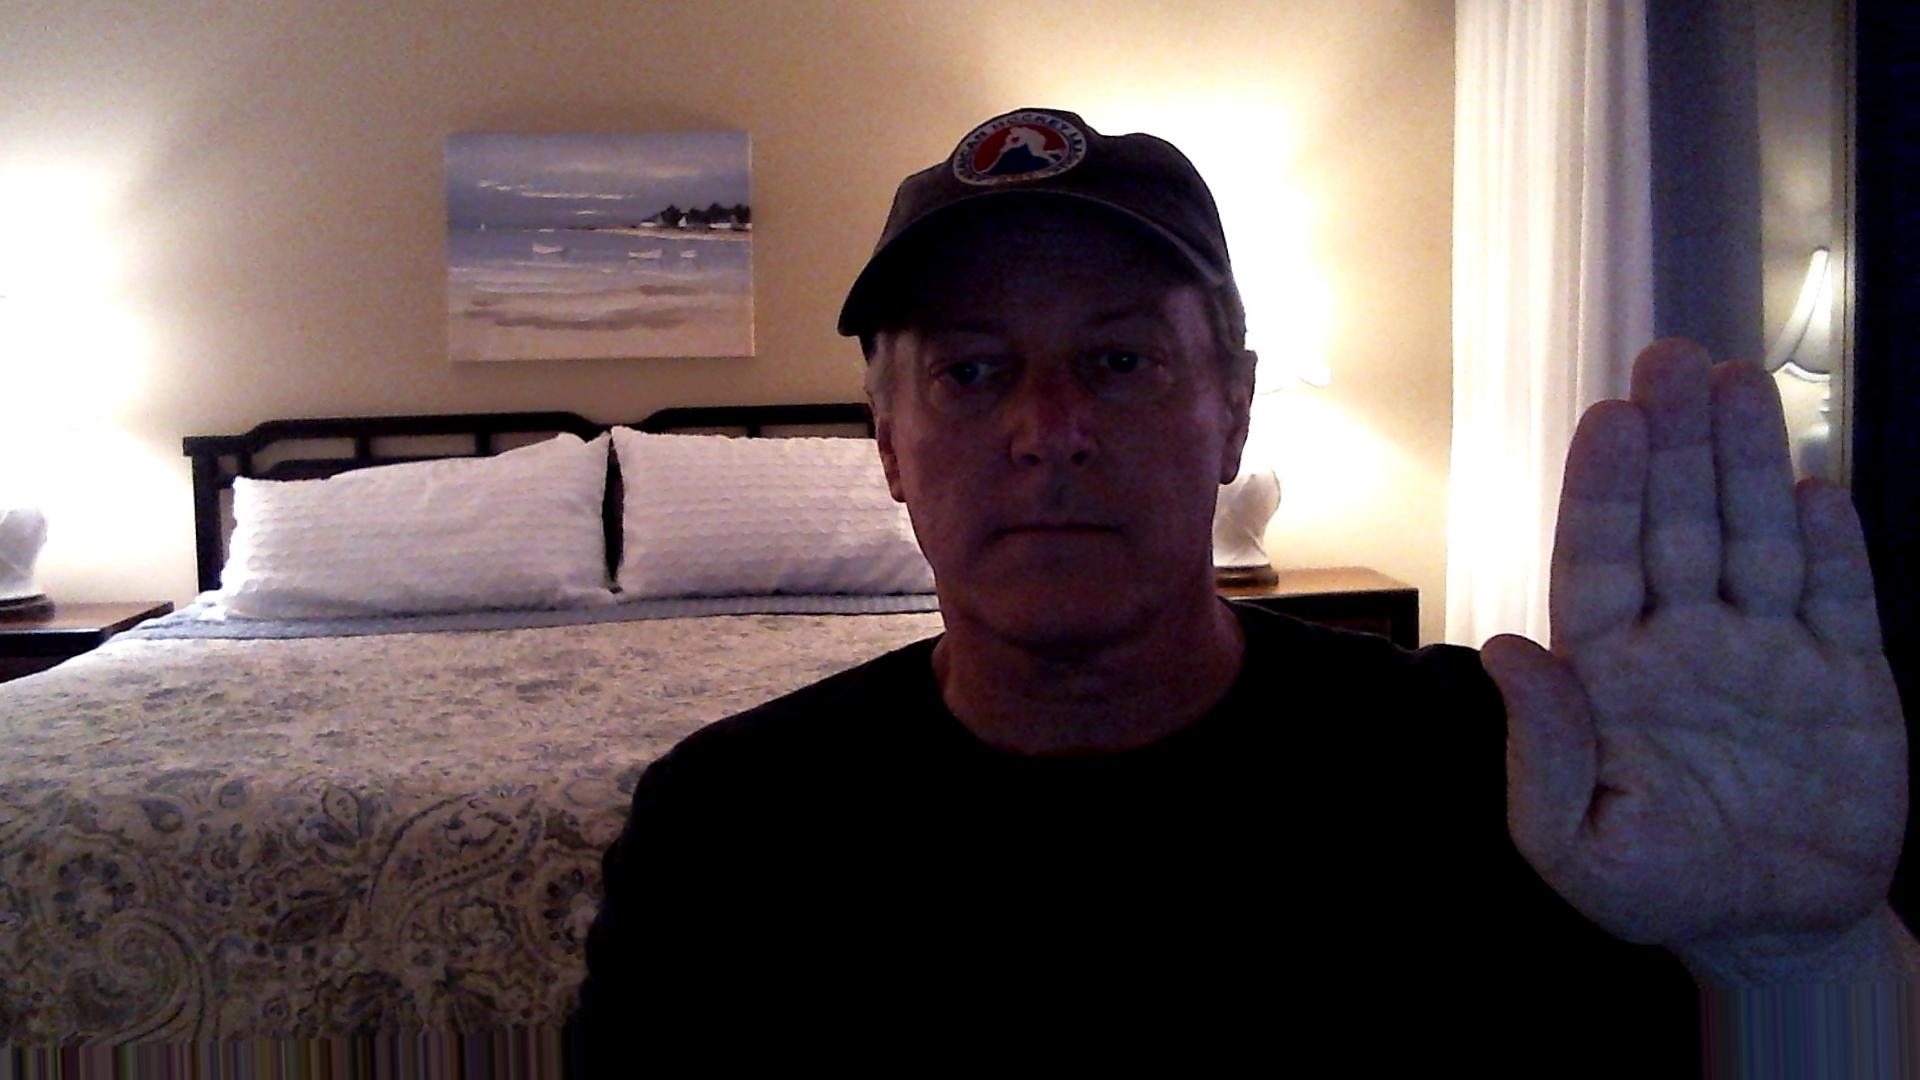Hello: (1460, 322, 1917, 948)
